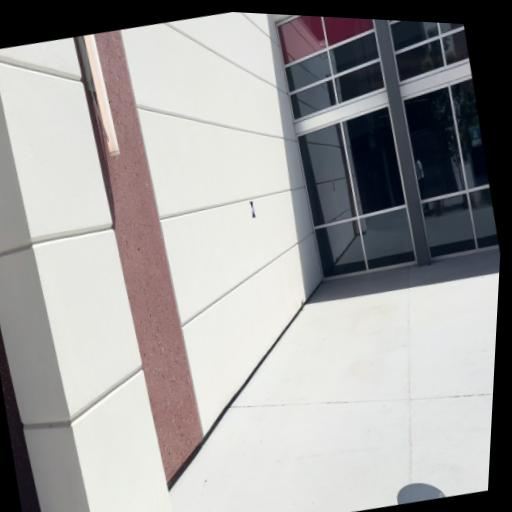target4: (248, 200, 256, 218)
